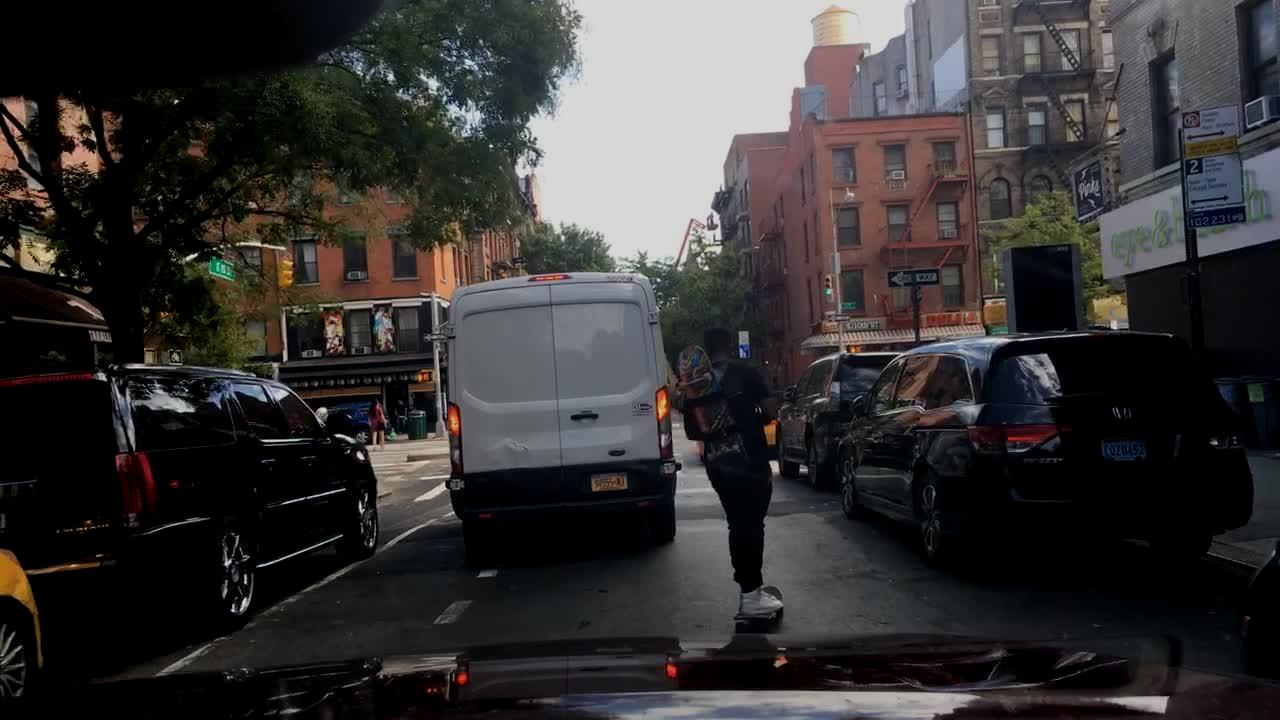Honda: (1108, 400, 1137, 427)
